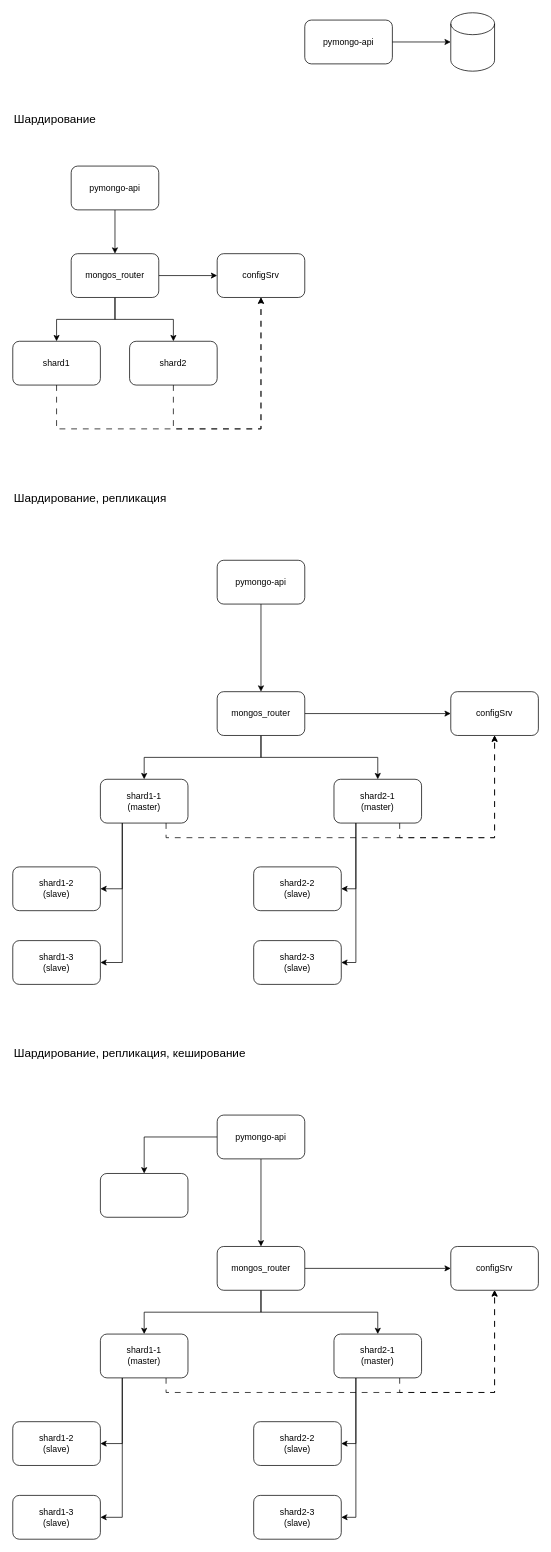
Some shapes in this 551 by 1552 pixel diagram are drawn without their labels. The shapes that lost their labels are listed below. From the top down, each one's centre as x and y in pixels, then its label:
At point (472, 41): "MongoDB".
At point (144, 1195): "redis".
